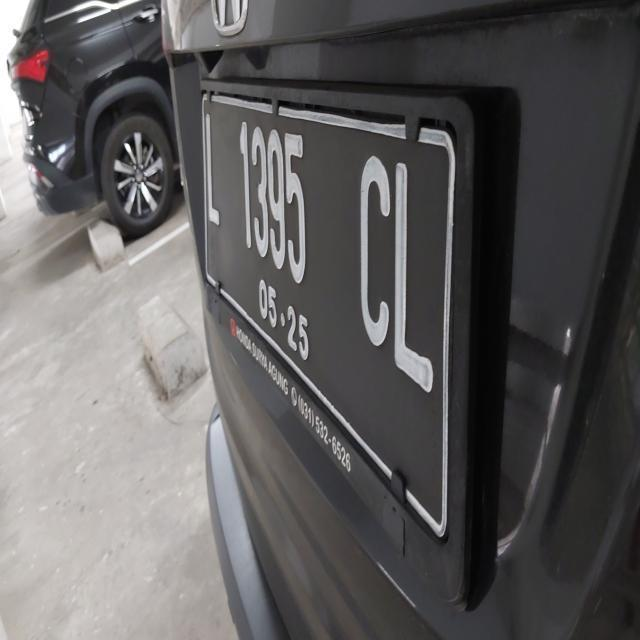1: (238, 116, 252, 250)
3: (253, 117, 268, 260)
5: (285, 127, 306, 286)
9: (268, 125, 285, 272)
C: (358, 148, 392, 354)
L: (393, 146, 436, 402), (204, 110, 224, 229)
